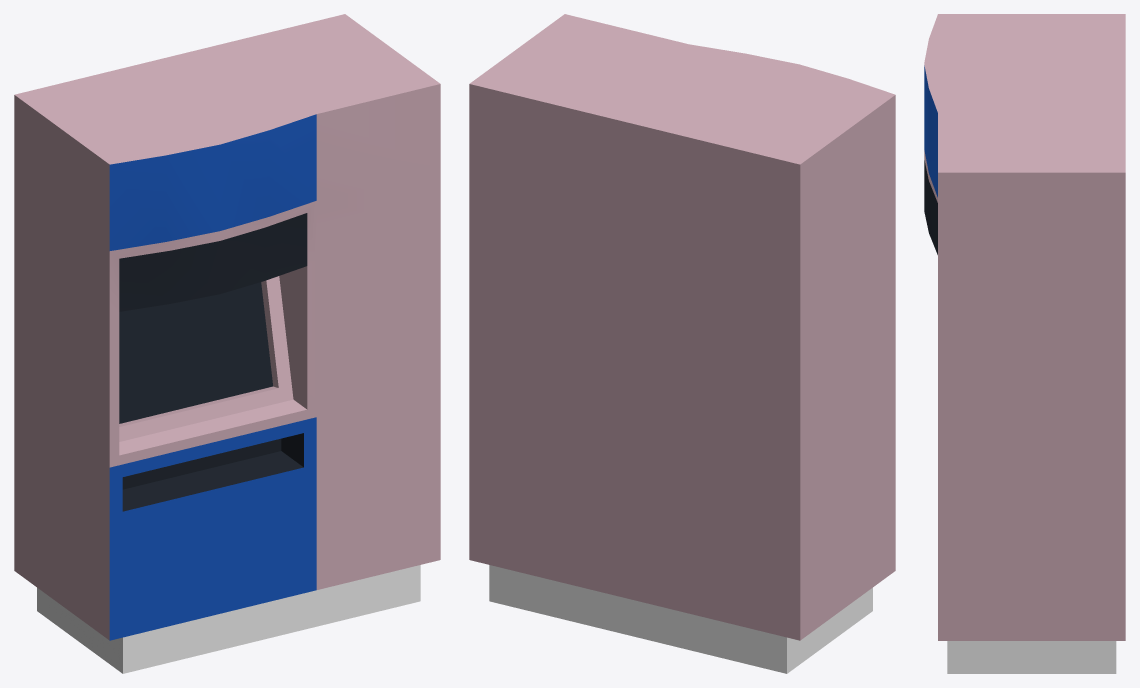
The model's file is SM_VendingMachine.fbx.
3 views of the same model, side by side, from view 1: azimuth 30°, elevation 25°; view 2: azimuth 150°, elevation 25°; view 3: azimuth 270°, elevation 25° (orthographic).
Visible parts, largest first — view 1: SM_VendingMachine; view 2: SM_VendingMachine; view 3: SM_VendingMachine.
Boxes of the visible parts, box(x1,y1,x2,y2) form: SM_VendingMachine: box(14, 14, 440, 673); SM_VendingMachine: box(469, 14, 895, 673); SM_VendingMachine: box(924, 14, 1125, 673).
Size of the model in its own units: 200 by 299 by 107.
1 material, 1 textured.
